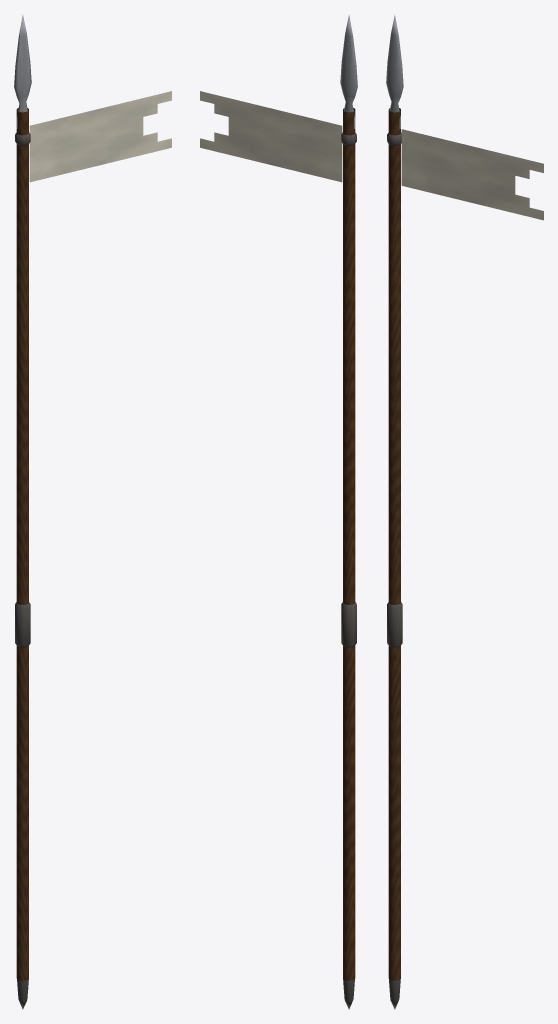
Rendered from kargi.glb.
The picture shows the model from 3 angles, left to right: view 1: azimuth 30°, elevation 25°; view 2: azimuth 150°, elevation 25°; view 3: azimuth 330°, elevation 25°; orthographic projection.
Parts seen in each view (by area): view 1: kargi; view 2: kargi; view 3: kargi.
Boxes of the visible parts, x1=… form: kargi: x1=14, y1=14, x2=171, y2=1009; kargi: x1=200, y1=14, x2=357, y2=1009; kargi: x1=386, y1=14, x2=543, y2=1009.
Size of the model in its own units: 0.466 by 2.81 by 0.04.
4 materials, 4 textured.
